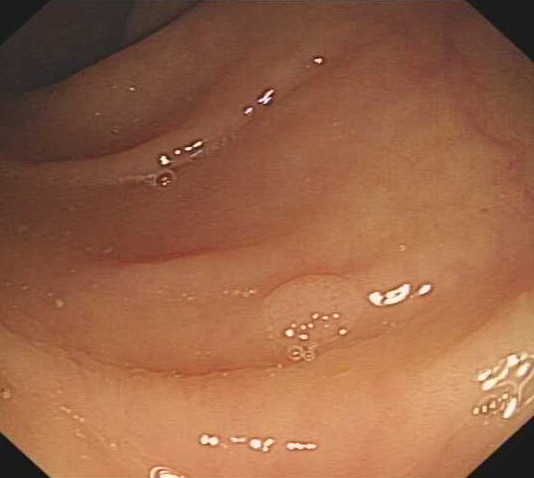others: (257, 271, 364, 352)
